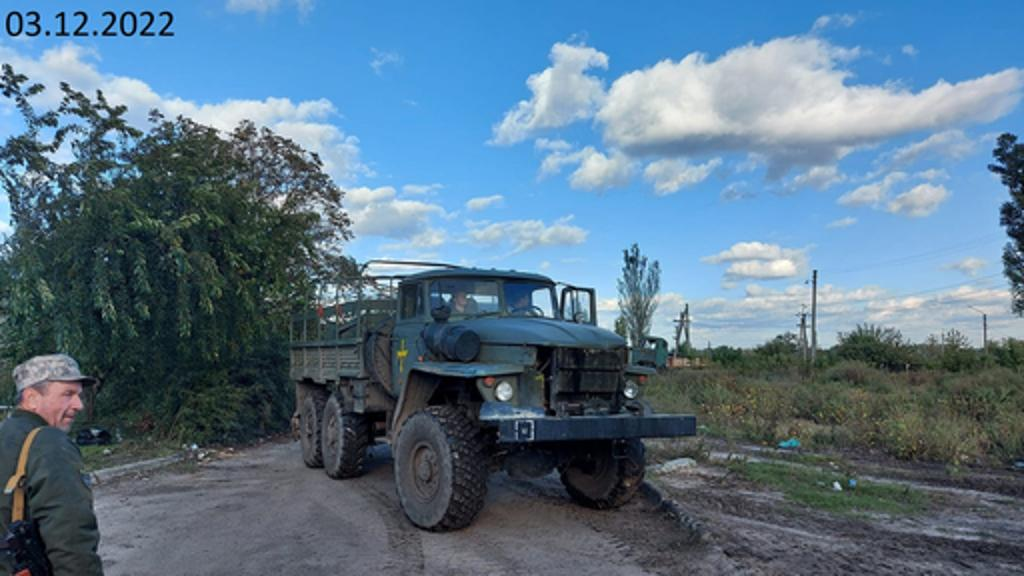TRUCK: (274, 256, 698, 540)
